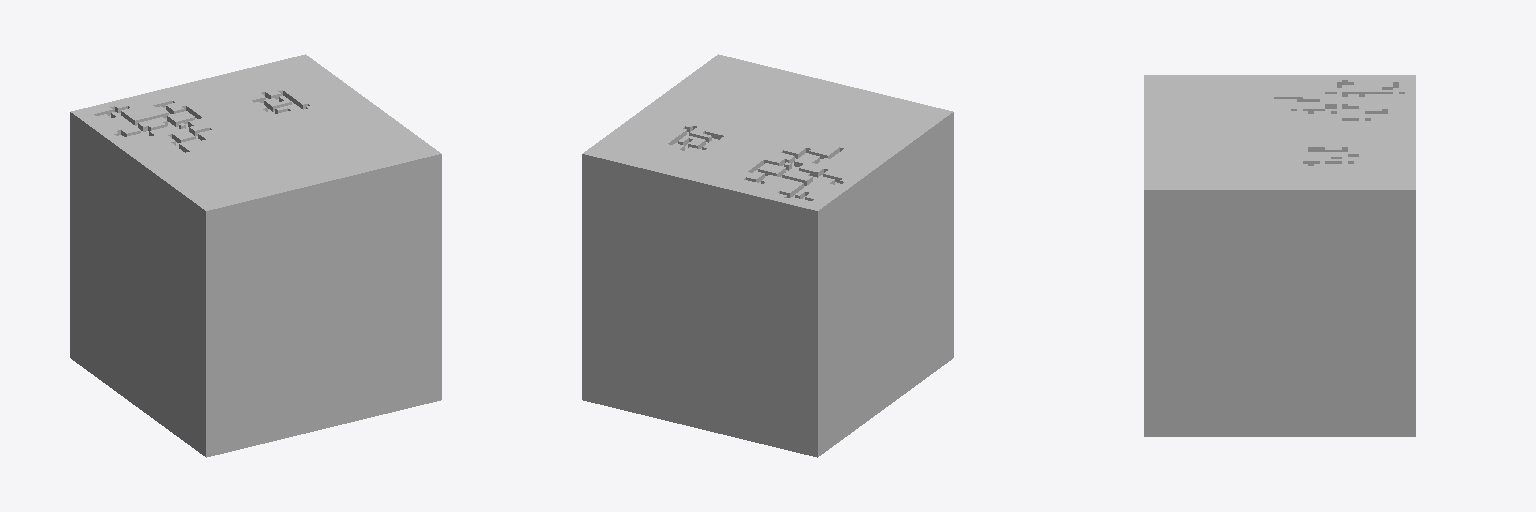
File: concretePathCracks2-0.obj
3 views of the same model, side by side, from view 1: azimuth 30°, elevation 25°; view 2: azimuth 150°, elevation 25°; view 3: azimuth 270°, elevation 25° (orthographic).
Visible parts, largest first — view 1: object 1; view 2: object 1; view 3: object 1.
Part boxes in pixels (left/top/right/bottom): object 1: left=70, top=54, right=441, bottom=457; object 1: left=582, top=54, right=953, bottom=457; object 1: left=1144, top=75, right=1415, bottom=436.
Size of the model in its own units: 4.8 by 4.8 by 4.8.